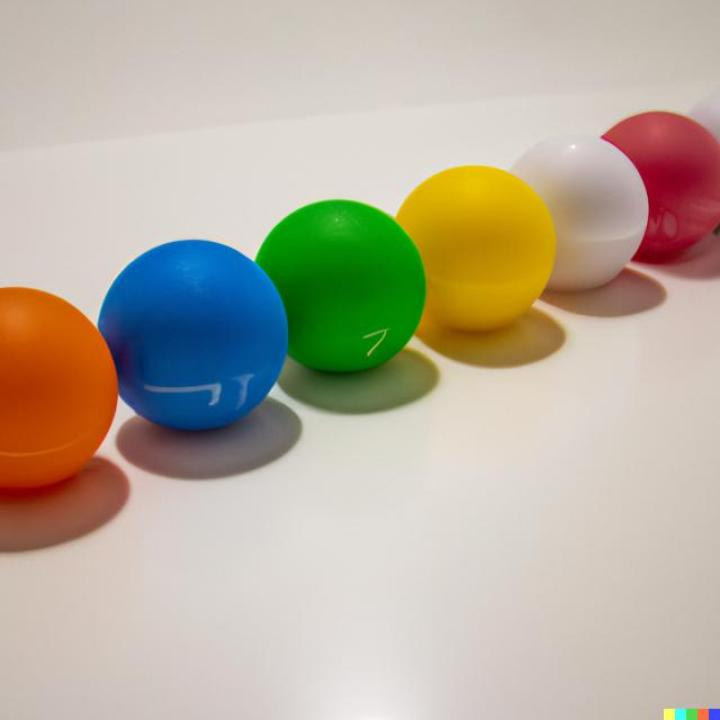orange: (0, 282, 119, 492)
white: (510, 134, 650, 291)
